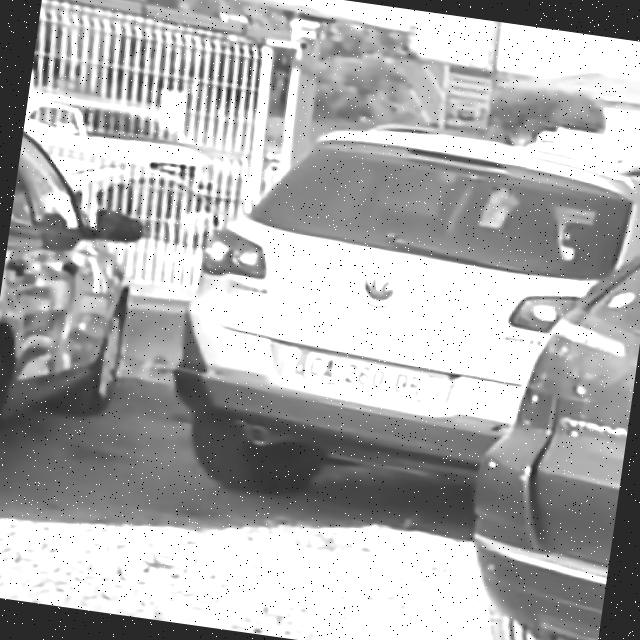Autre: (290, 338, 465, 416)
